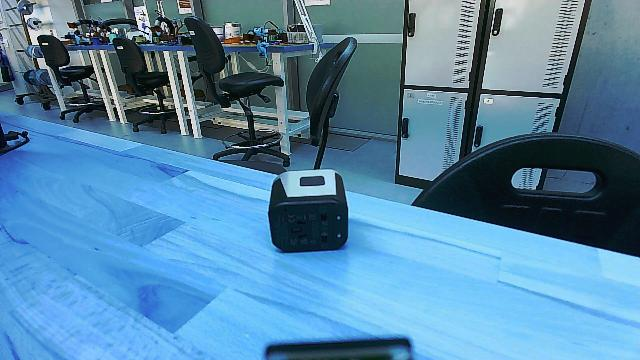adapter: (262, 168, 354, 256)
